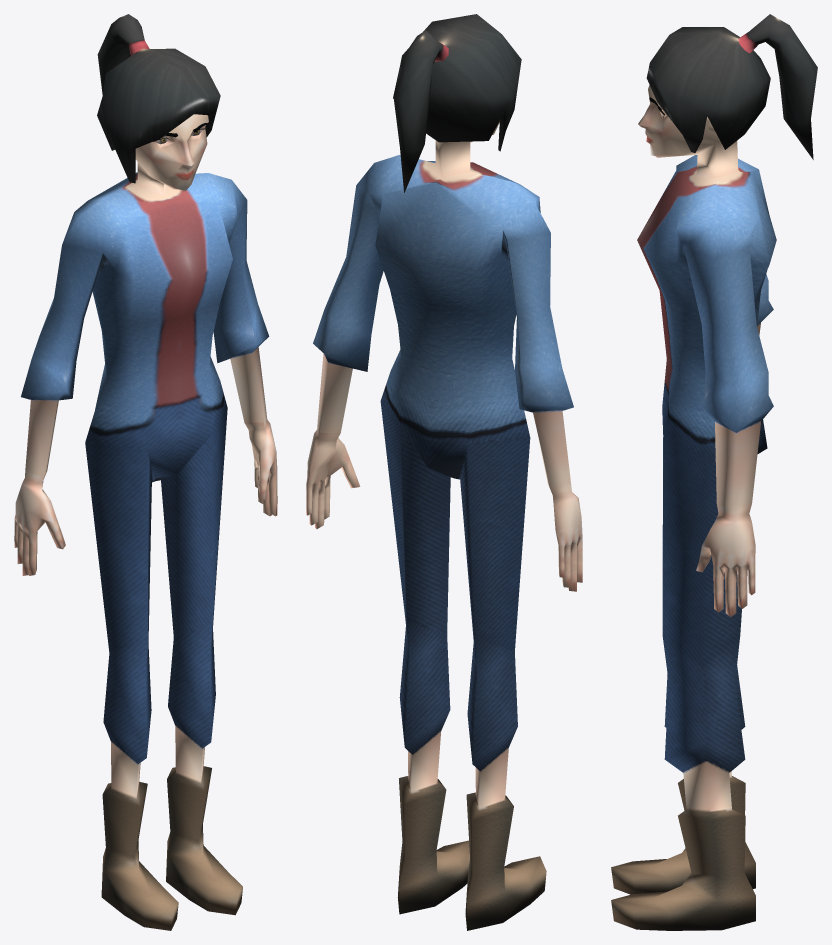
File: BasicGirl.fbx
3 renders of one model, left to right at view 1: azimuth 30°, elevation 25°; view 2: azimuth 150°, elevation 25°; view 3: azimuth 270°, elevation 25°, orthographic. The views are drawn at different scales.
Visible parts, largest first — view 1: polySurface372; view 2: polySurface372; view 3: polySurface372.
Boxes of the visible parts, <box> form: polySurface372: <box>14,14,277,930</box>; polySurface372: <box>306,14,582,930</box>; polySurface372: <box>611,14,817,930</box>.
Bounding box in the file's own units: 51.8 × 169 × 35.67.
